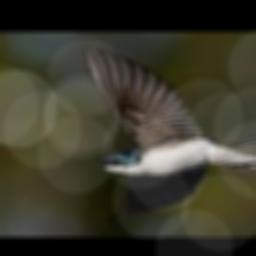Swallow: (82, 45, 256, 221)
